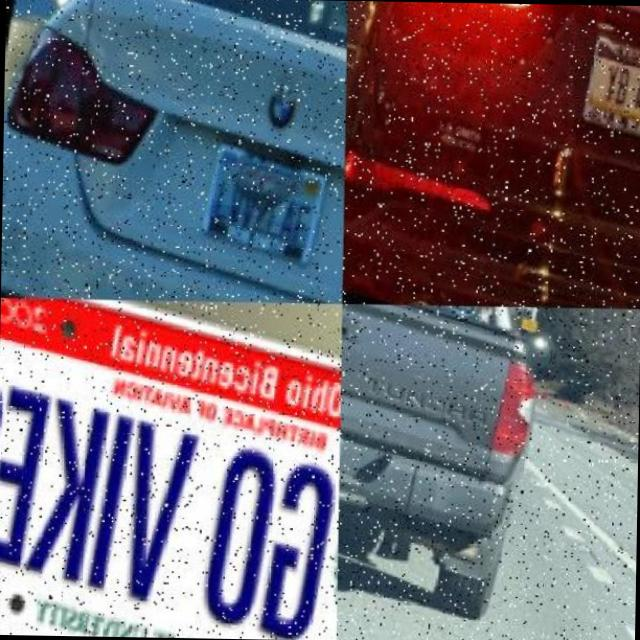LicensePlate: (0, 340, 342, 640), (184, 133, 330, 274), (573, 33, 640, 137)
